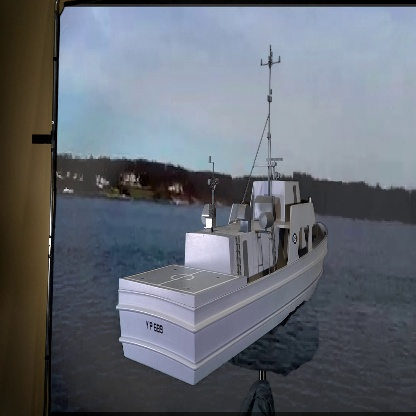YP689: (115, 43, 330, 389)
